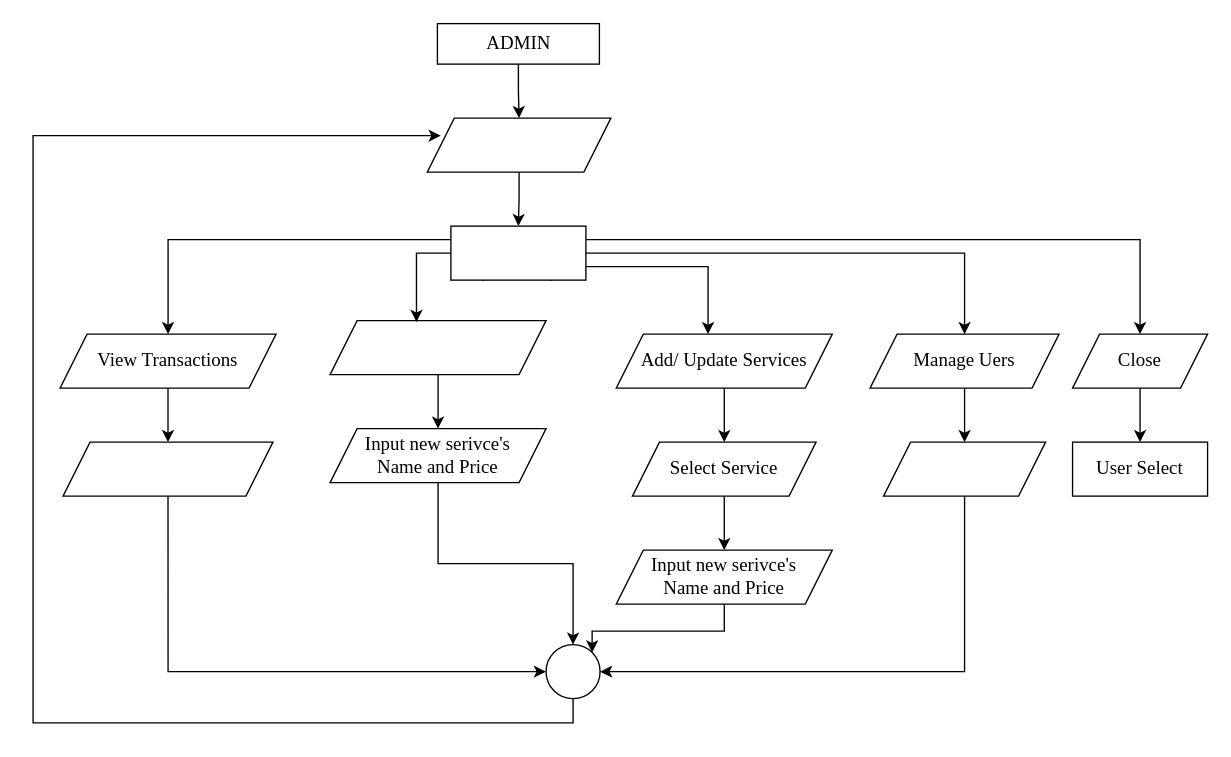
This 1231x757 diagram has some shape labels left out. The shapes that lost their labels are listed below. From the top down, each one's box as (x1, y1, x2, y2) in pixels, then its label:
(426, 117, 611, 172): Display Dashboard
(450, 225, 586, 280): Choose Option
(329, 319, 546, 375): Manage Employees
(62, 441, 273, 496): Display Tranasction details
(882, 441, 1046, 496): Input/ Update Info
